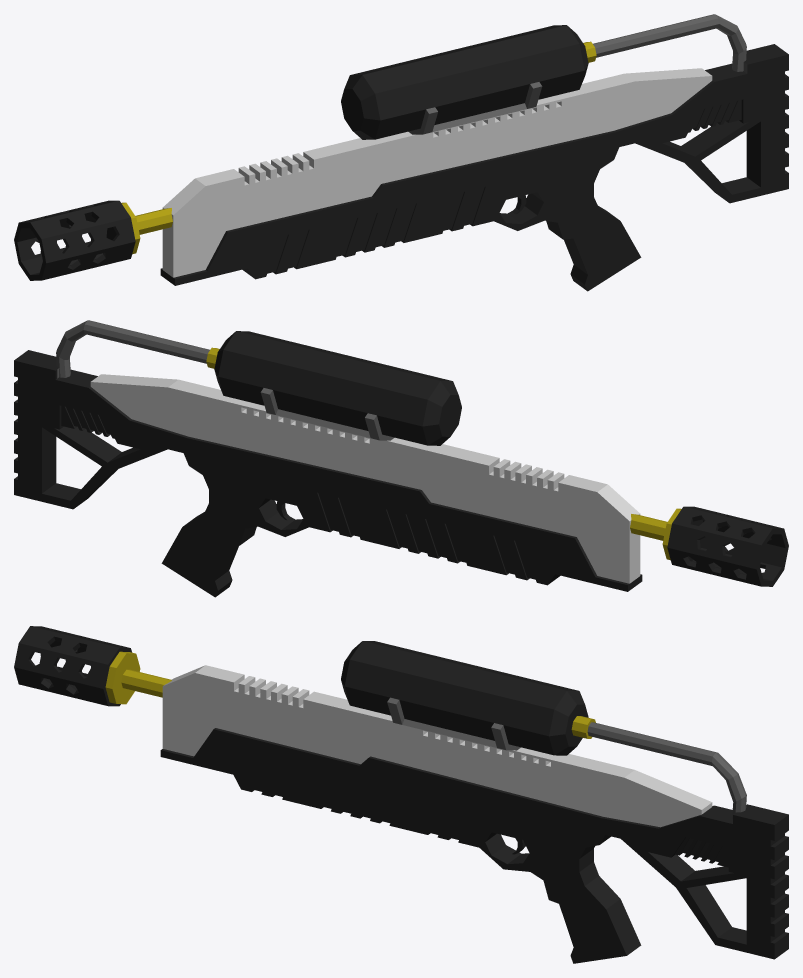
The model's file is flamethrower.fbx.
3 renders of one model, top to bottom at view 1: azimuth 30°, elevation 25°; view 2: azimuth 150°, elevation 25°; view 3: azimuth 330°, elevation 25°, orthographic.
Parts seen in each view (by area): view 1: Plane.001; view 2: Plane.001; view 3: Plane.001.
Boxes of the visible parts, x1,y1,x2,y2 form: Plane.001: [14, 14, 788, 291]; Plane.001: [14, 320, 788, 597]; Plane.001: [14, 626, 788, 963].
Bounding box in the file's own units: 480 × 161 × 46.41.
Materials: 1 (1 with a texture image).
